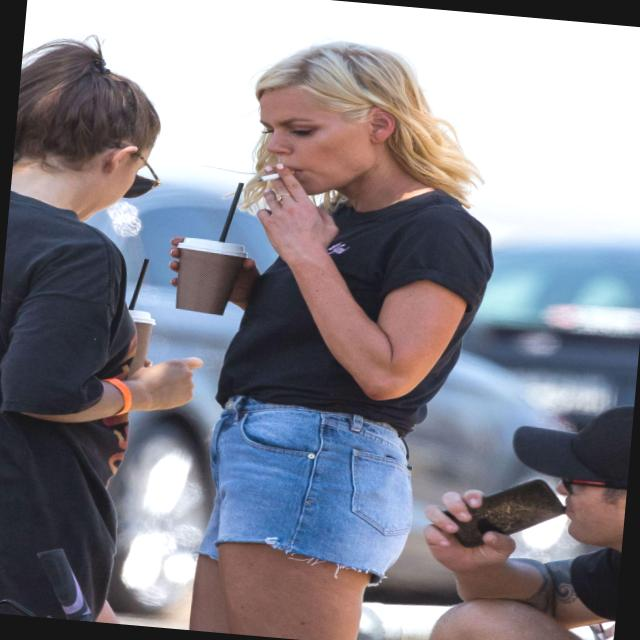smoke: (245, 156, 299, 192)
